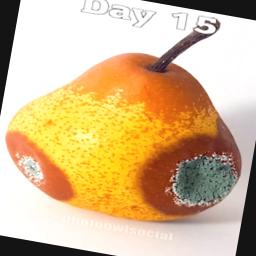Pear Rotten: (0, 0, 256, 237)
